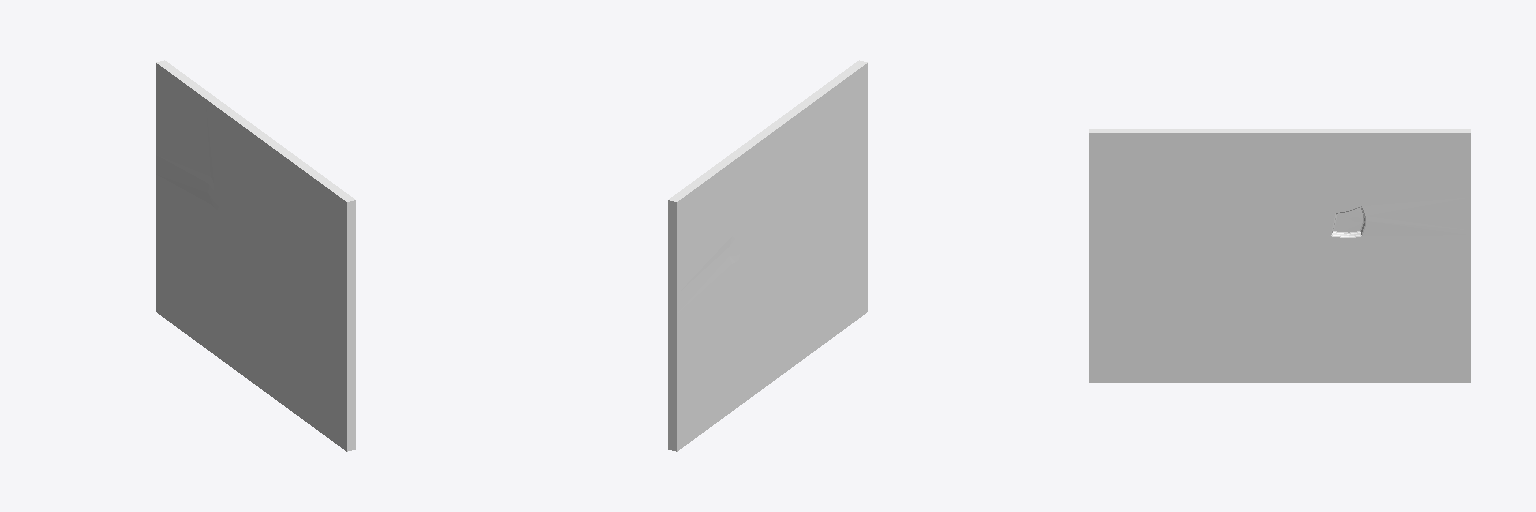
Rendered from Mur_avec_Niche.obj.
3 views of the same model, side by side, from view 1: azimuth 30°, elevation 25°; view 2: azimuth 150°, elevation 25°; view 3: azimuth 270°, elevation 25° (orthographic).
Parts seen in each view (by area): view 1: mur9_Mesh.023; view 2: mur9_Mesh.023; view 3: mur9_Mesh.023.
Part boxes in pixels (x1,y1,x2,y2): mur9_Mesh.023: (156,60,355,451); mur9_Mesh.023: (668,60,867,451); mur9_Mesh.023: (1089,129,1470,382).
Bounding box in the file's own units: 0.3434 × 8.86 × 12.29.